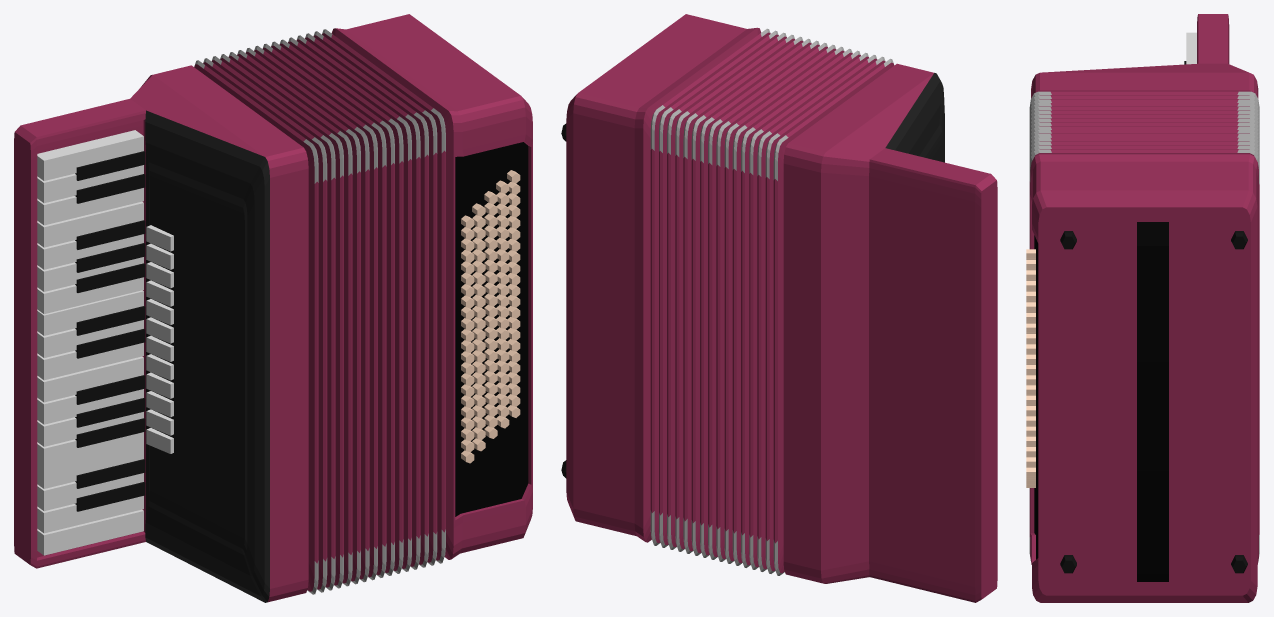
File: Accordion12.fbx
The picture shows the model from 3 angles, left to right: view 1: azimuth 30°, elevation 25°; view 2: azimuth 150°, elevation 25°; view 3: azimuth 270°, elevation 25°; orthographic projection. The views are drawn at different scales.
Parts seen in each view (by area): view 1: Cube.019; view 2: Cube.019; view 3: Cube.019.
Boxes of the visible parts, left/top/right/bottom form: Cube.019: left=14, top=14, right=532, bottom=602; Cube.019: left=561, top=14, right=997, bottom=602; Cube.019: left=1026, top=14, right=1259, bottom=602.
Bounding box in the file's own units: 57.38 × 54.85 × 27.59.
